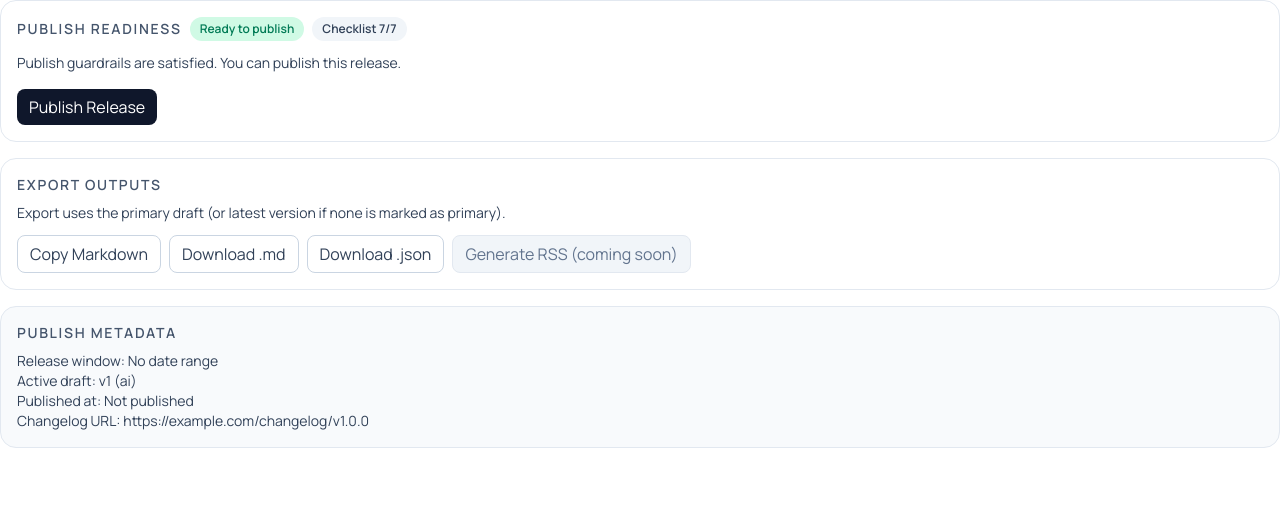
Test: ReleasePublishTab › publishes release when readiness checks pass
What coordinates should you click on to do the following:
click the button "Publish Release"
I would click on:
 (87, 107)
Its box is x1=17 y1=89 x2=157 y2=125.
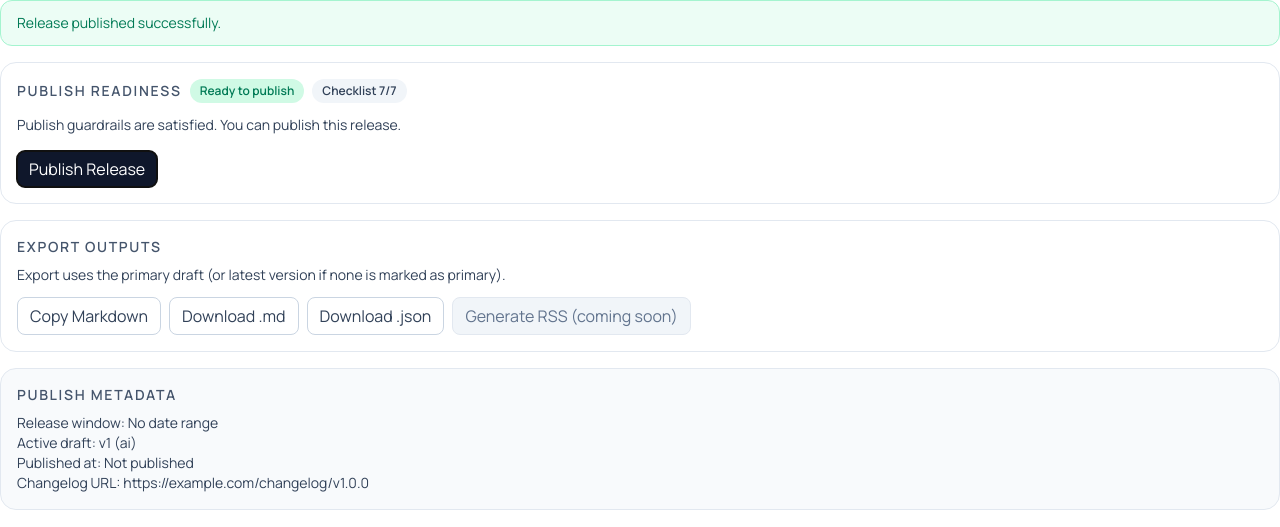
Expected: the text "Release published successfully." is shown, x1=0 y1=0 x2=1279 y2=46
